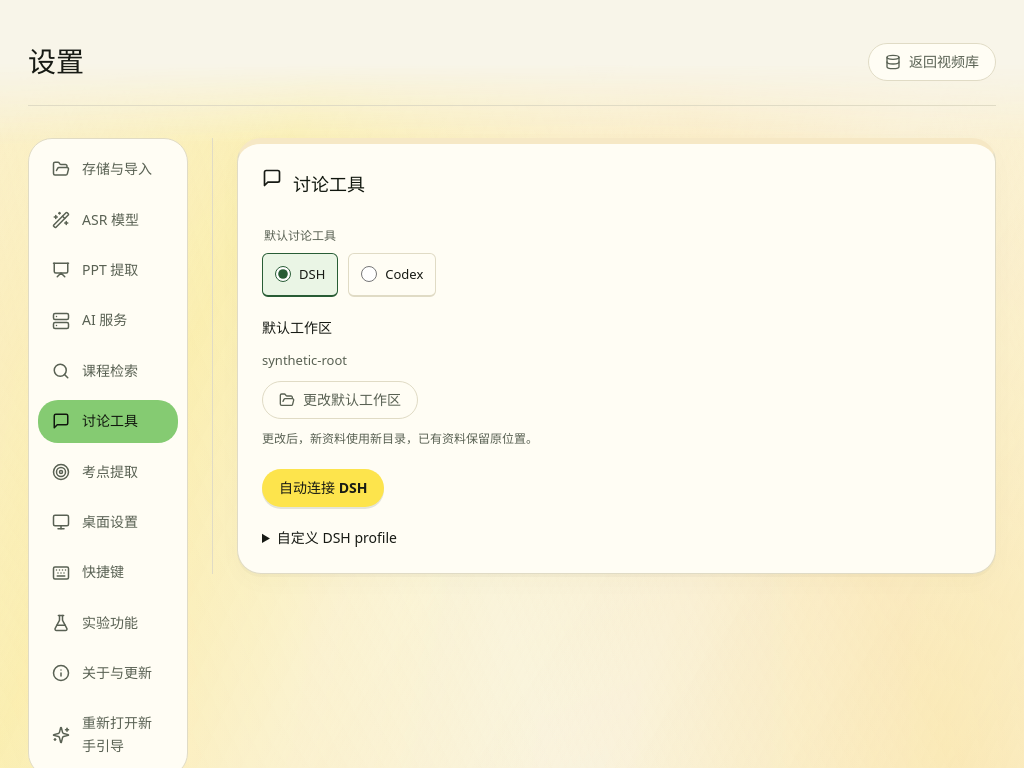
Scenario: shows only the selected tool, remembers the choice and preserves both saved workspaces
Expected: the text named "DSH 默认工作区" reads "synthetic-root", x1=262 y1=351 x2=347 y2=369
Click the radio button labelled "Codex".
click(369, 274)  # box x1=361 y1=266 x2=377 y2=282
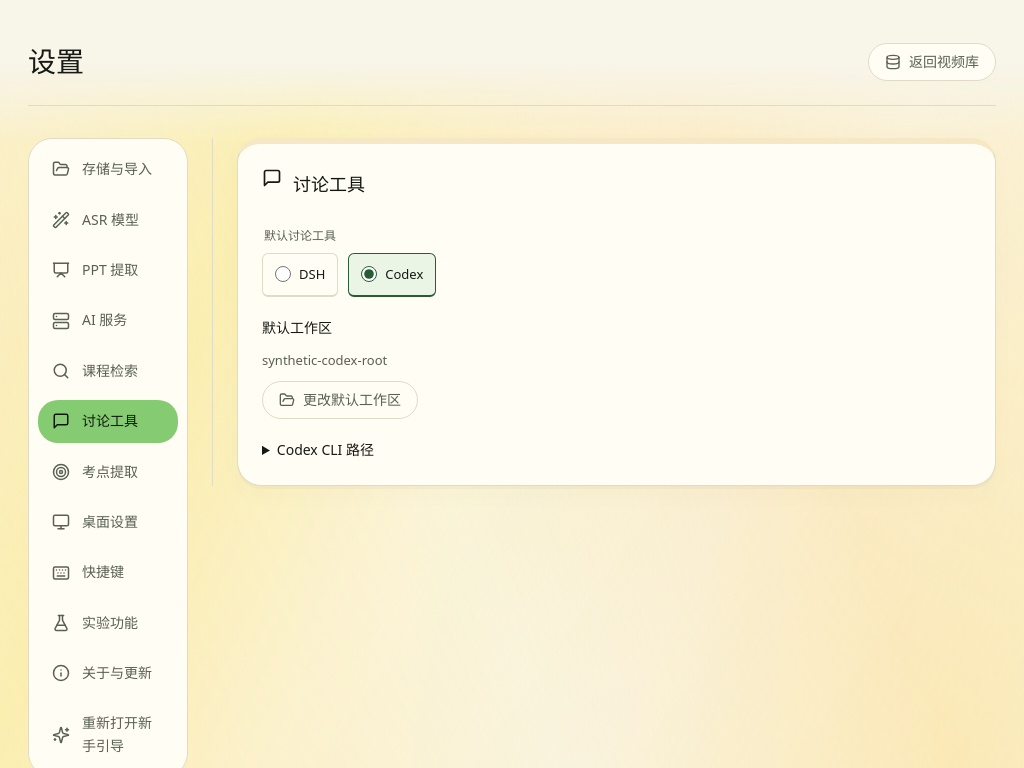
Now the text named "Codex 默认工作区" reads "synthetic-codex-root", box x1=262 y1=351 x2=387 y2=369
Click the radio button labelled "DSH".
click(283, 274)  # box x1=275 y1=266 x2=291 y2=282
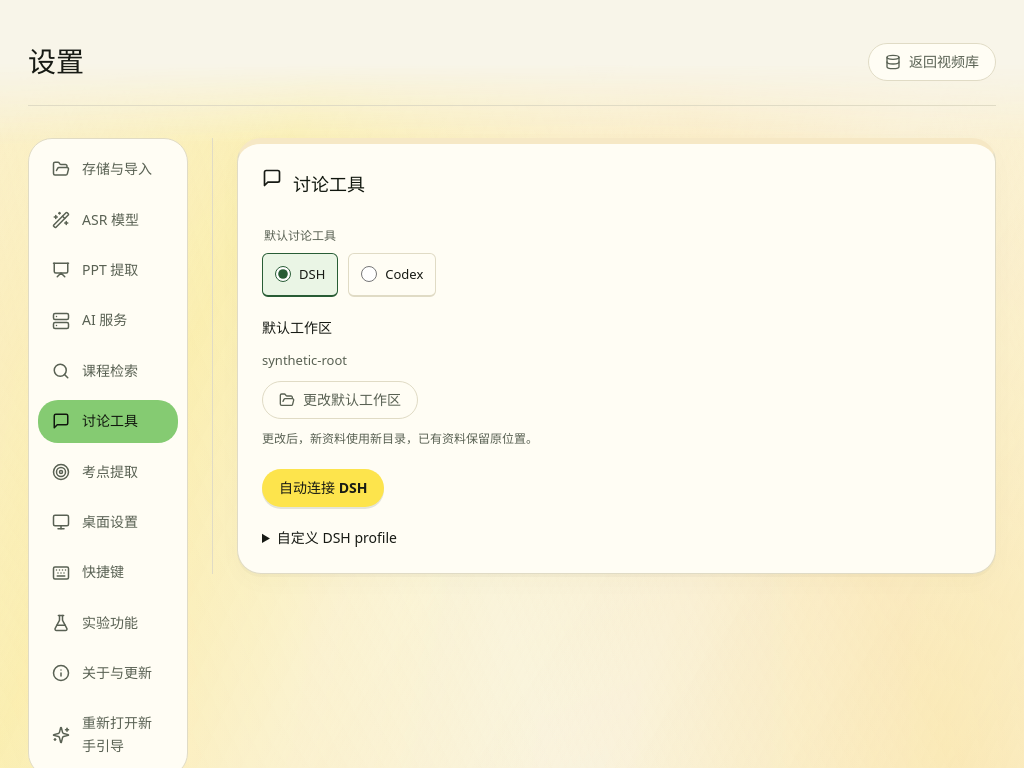
Now the text named "DSH 默认工作区" reads "synthetic-root", box x1=262 y1=351 x2=347 y2=369
